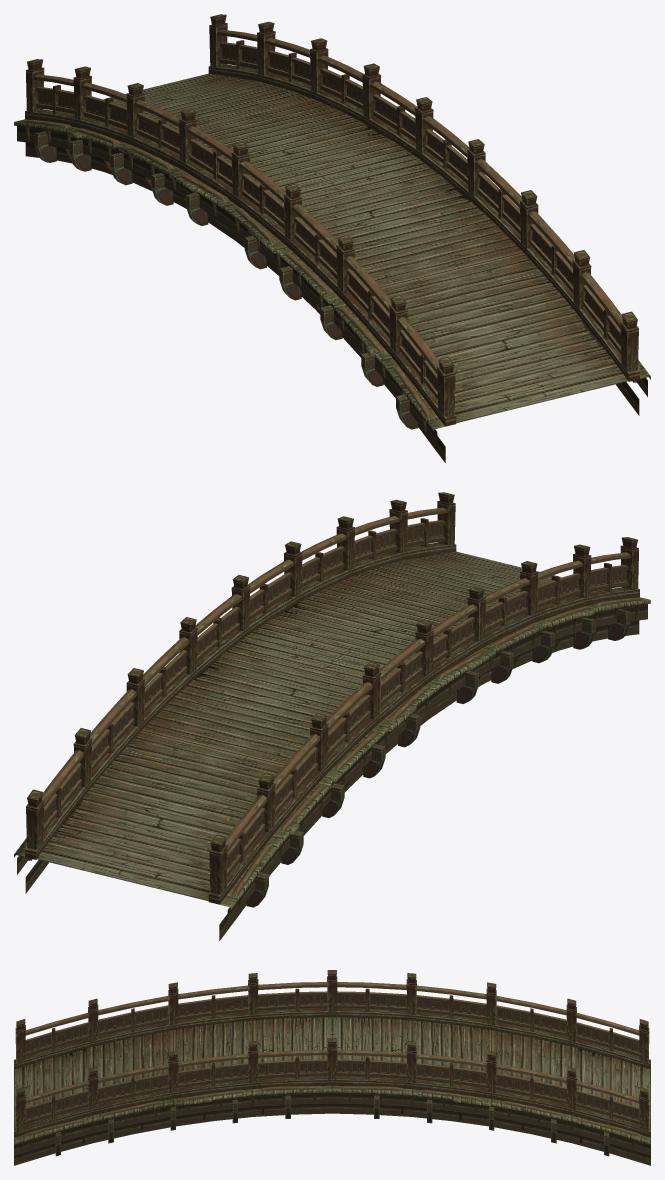
The model's file is Maincity03_Object_qiao_LOD0.FBX.
3 renders of one model, top to bottom at view 1: azimuth 30°, elevation 25°; view 2: azimuth 150°, elevation 25°; view 3: azimuth 270°, elevation 25°, orthographic. The views are drawn at different scales.
Parts seen in each view (by area): view 1: cmc_qiao_LOD0; view 2: cmc_qiao_LOD0; view 3: cmc_qiao_LOD0.
Part boxes in pixels (<box>): cmc_qiao_LOD0: <box>14,14,650,462</box>; cmc_qiao_LOD0: <box>14,492,650,940</box>; cmc_qiao_LOD0: <box>14,970,650,1165</box>.
Size of the model in its own units: 614 by 416 by 1938.
